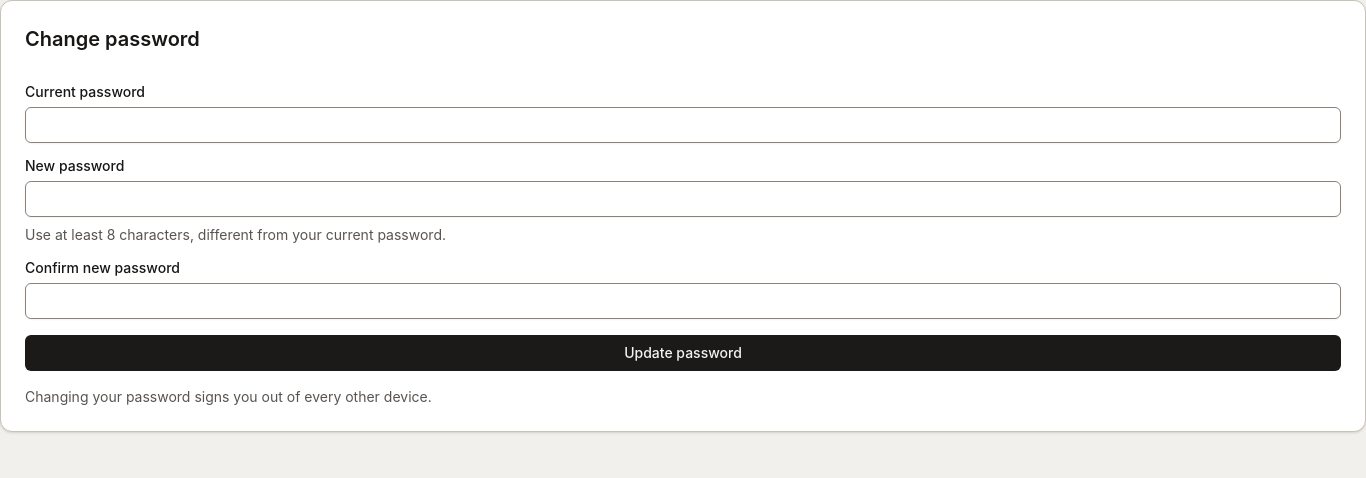
Scenario: ChangePassword › rejects confirm ≠ new inline
The width and height of the screenshot is (1366, 478).
Type "oldpassword-1" into the password field labelled "Current password".
click(683, 125); type("oldpassword-1")  # box [25,107,1341,143]
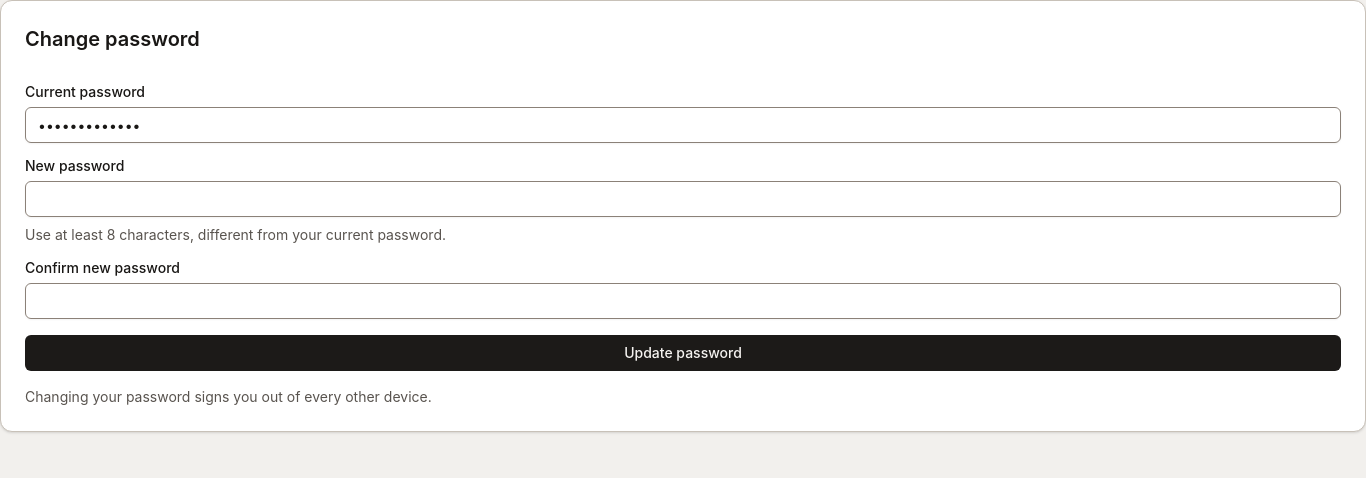
Type "brand-new-pass" into the password field labelled "New password".
click(683, 199); type("brand-new-pass")  # box [25,181,1341,217]
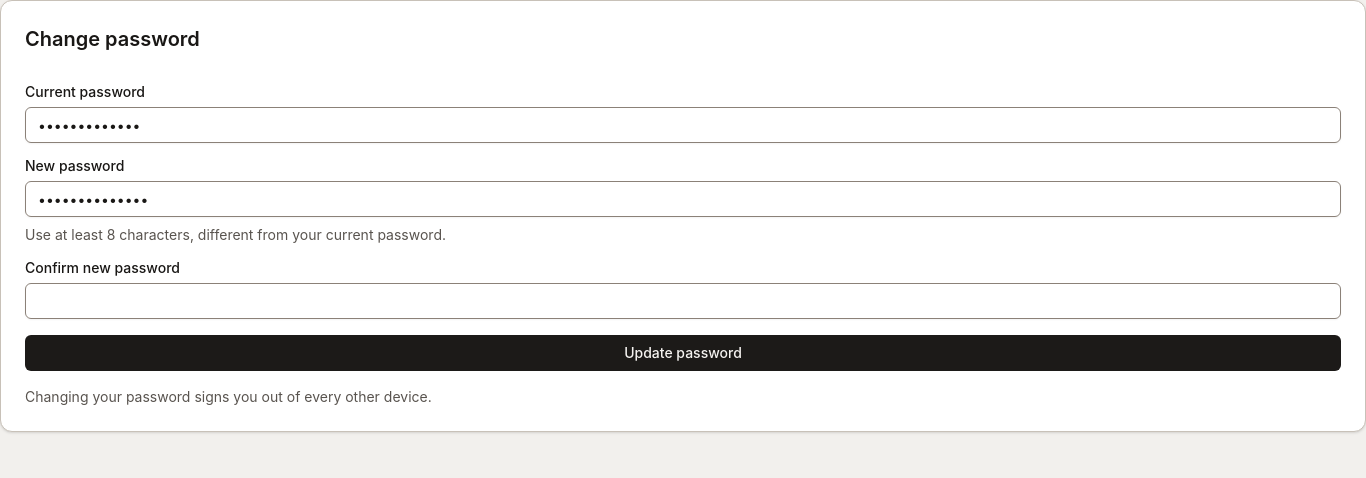
Type "different-value" into the password field labelled "Confirm new password".
click(683, 301); type("different-value")  # box [25,283,1341,319]
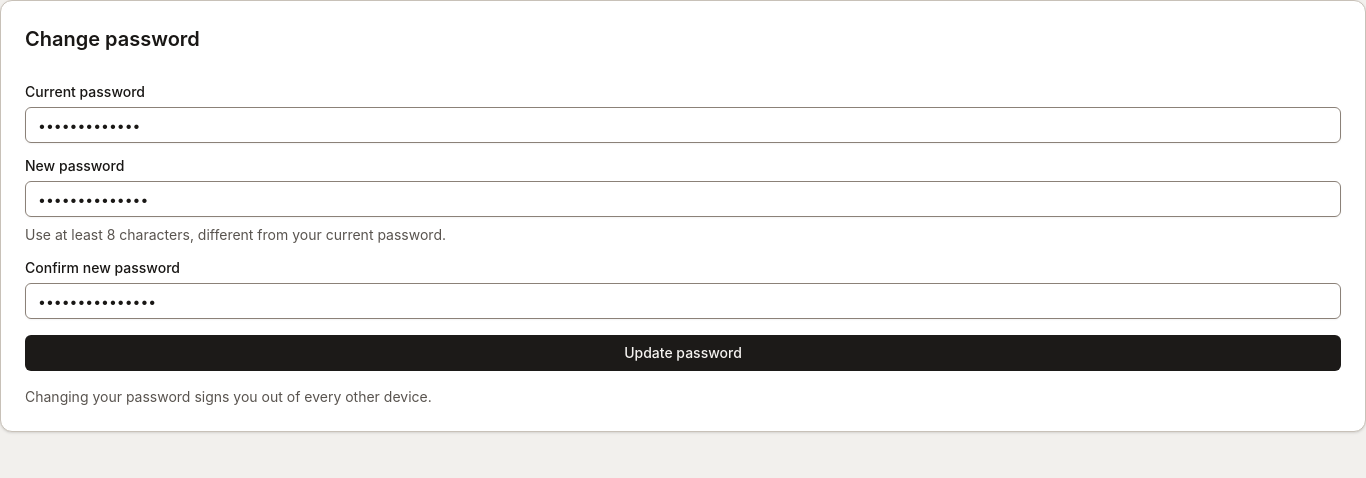
Click the button "Update password".
click(683, 353)  # box [25,335,1341,371]
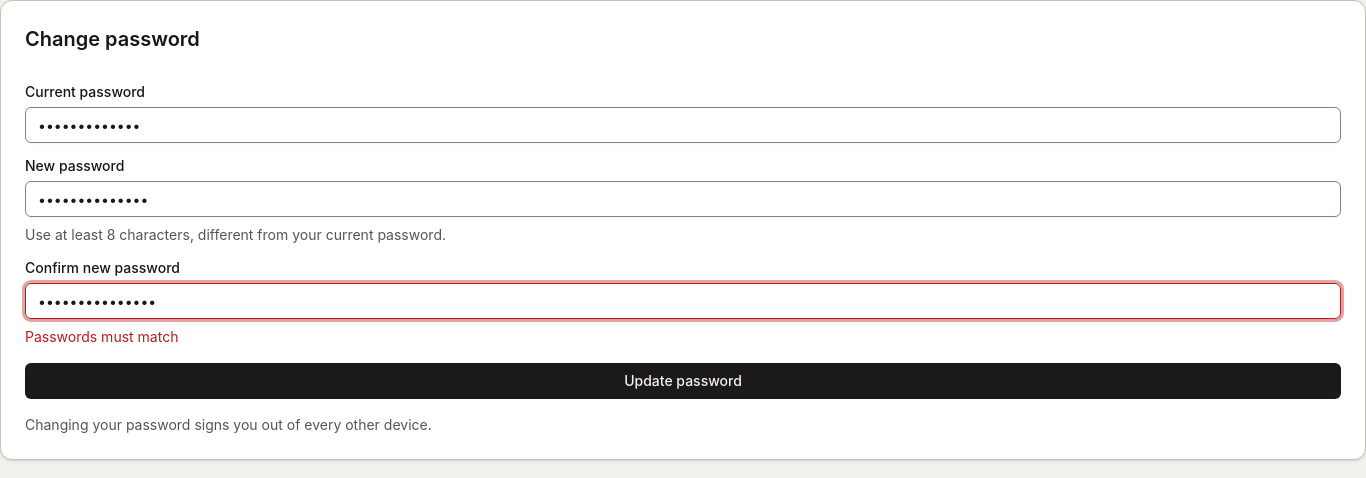
Result: the text "Passwords must match" is shown at [25,328,178,345]
